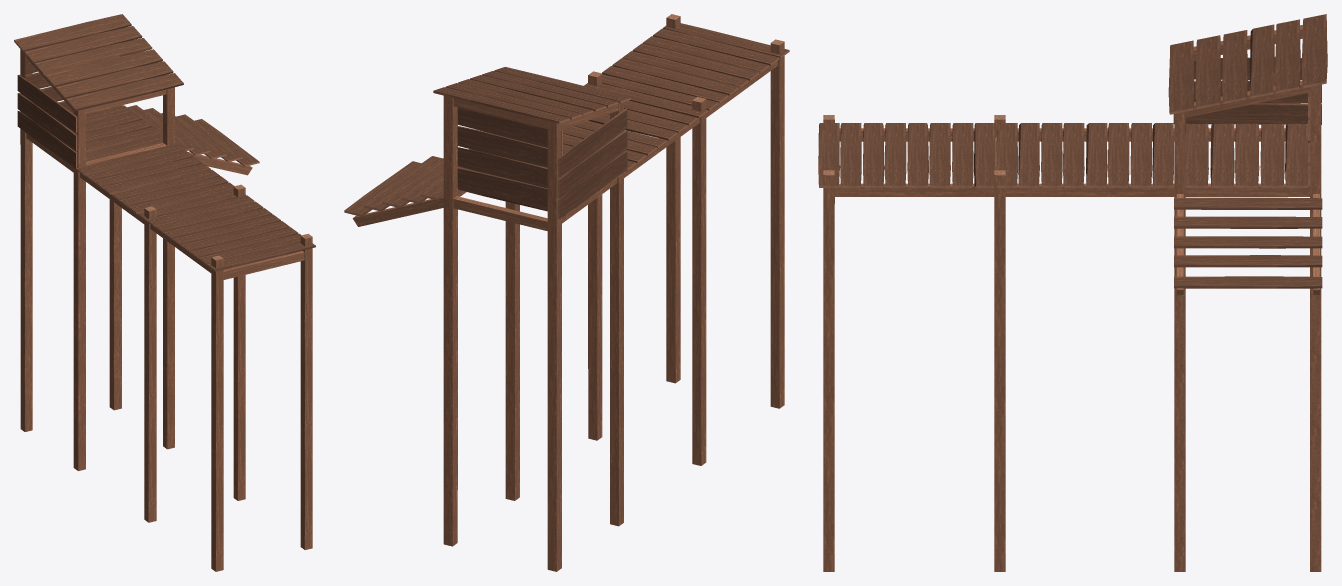
File: Docks.fbx
The picture shows the model from 3 angles, left to right: view 1: azimuth 30°, elevation 25°; view 2: azimuth 150°, elevation 25°; view 3: azimuth 270°, elevation 25°; orthographic projection. The views are drawn at different scales.
Parts seen in each view (by area): view 1: Cube, Cube.001; view 2: Cube.001, Cube; view 3: Cube, Cube.001.
Part boxes in pixels (x1,y1,x2,y2): Cube: (14, 14, 315, 271); Cube.001: (20, 49, 312, 571); Cube.001: (352, 14, 784, 571); Cube: (344, 23, 789, 219); Cube: (818, 14, 1327, 288); Cube.001: (823, 25, 1321, 571).
Bounding box in the file's own units: 2752 × 5479 × 5110.
Materials: 3 (3 with a texture image).
